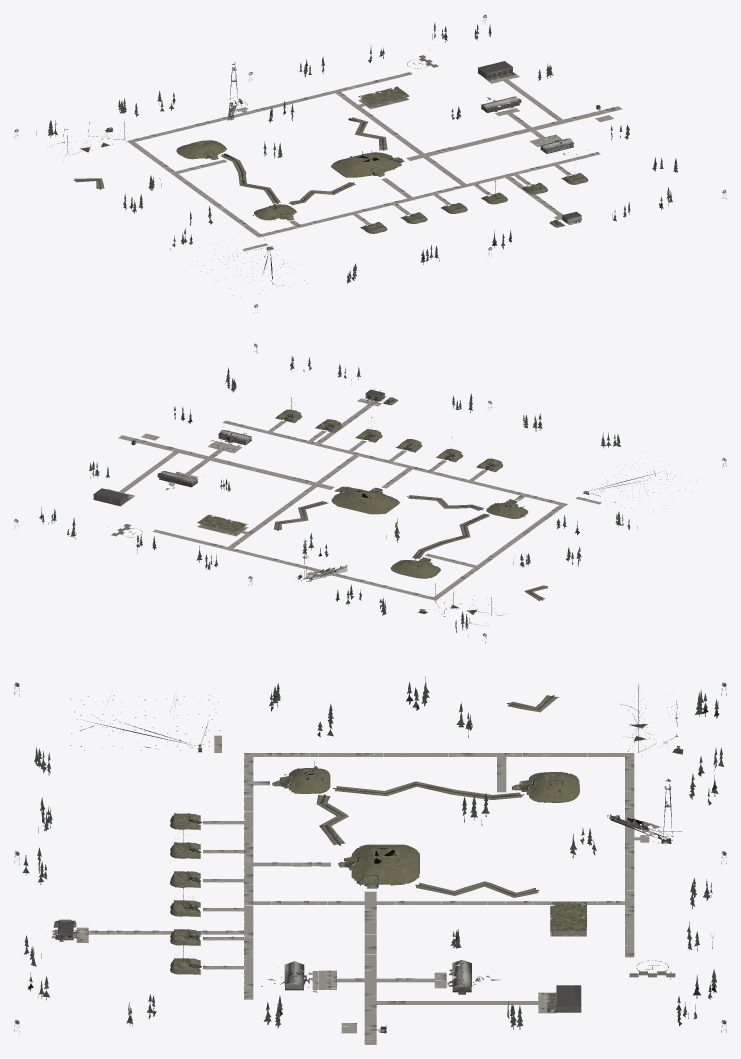
The model's file is site_cp_w_lo.glb.
3 views of the same model, one above another, from view 1: azimuth 30°, elevation 25°; view 2: azimuth 150°, elevation 25°; view 3: azimuth 270°, elevation 25° (orthographic). The views are drawn at different scales.
Visible parts, largest first — view 1: deco|tile_conc, deco_trees|F_A, deco|F_A, b_bunker1|F_A, b_bunker2|F_A; view 2: deco|tile_conc, deco_trees|F_A, deco|F_A, b_bunker1|F_A, b_bunker1_ruin|F_B, b_bunker2|F_A; view 3: deco|tile_conc, deco|F_A, deco_trees|F_A, b_bunker1|F_A, b_bunker1_ruin|F_B, b_bunker2|F_A, b_comms|F_A, b_bunker2_ruin|F_B, b_barracks|F_A, b_garage|F_A.
Boxes of the visible parts, <box> form: deco|tile_conc: <box>127,72,622,250</box>; deco_trees|F_A: <box>36,22,677,283</box>; deco|F_A: <box>14,14,726,307</box>; b_bunker1|F_A: <box>331,150,404,177</box>; b_bunker2|F_A: <box>176,140,226,159</box>; deco|tile_conc: <box>107,398,601,600</box>; deco_trees|F_A: <box>39,356,637,636</box>; deco|F_A: <box>14,343,726,643</box>; b_bunker1|F_A: <box>331,486,399,514</box>; b_bunker1_ruin|F_B: <box>331,488,399,514</box>; b_bunker2|F_A: <box>390,557,440,578</box>; deco|tile_conc: <box>76,735,649,1044</box>; deco|F_A: <box>14,682,726,1033</box>; deco_trees|F_A: <box>22,676,724,1029</box>; b_bunker1|F_A: <box>338,844,419,888</box>; b_bunker1_ruin|F_B: <box>340,845,419,887</box>; b_bunker2|F_A: <box>514,772,579,802</box>; b_comms|F_A: <box>274,761,330,793</box>; b_bunker2_ruin|F_B: <box>511,772,579,802</box>; b_barracks|F_A: <box>449,960,471,994</box>; b_garage|F_A: <box>547,985,581,1012</box>.
Bounding box in the file's own units: 544 × 50.22 × 468.
52 materials, 37 textured.
